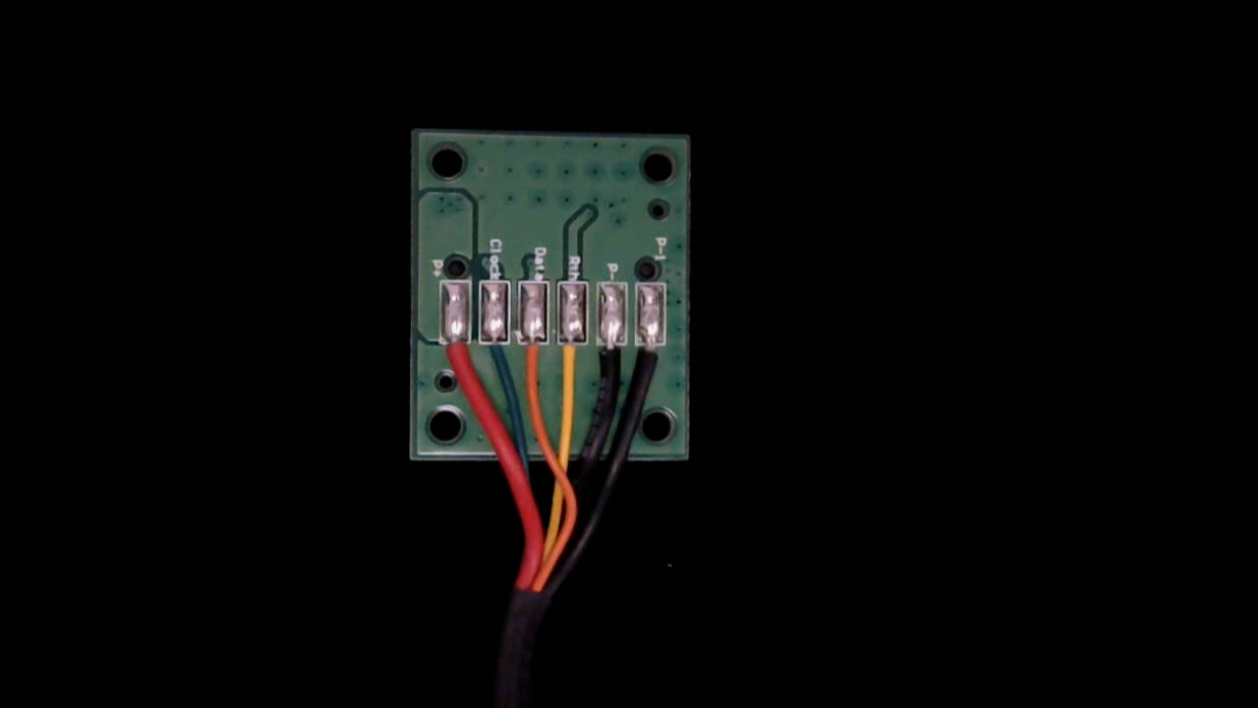Black: (597, 322, 632, 394)
Black1: (638, 325, 671, 391)
Green: (481, 323, 513, 383)
Orange: (520, 324, 553, 396)
Red: (440, 324, 475, 394)
Yellow: (555, 324, 589, 397)
